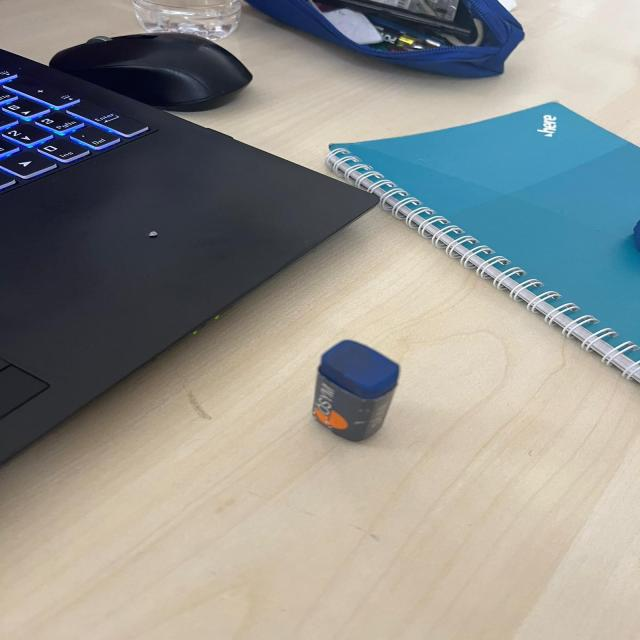eraser: (299, 330, 406, 445)
